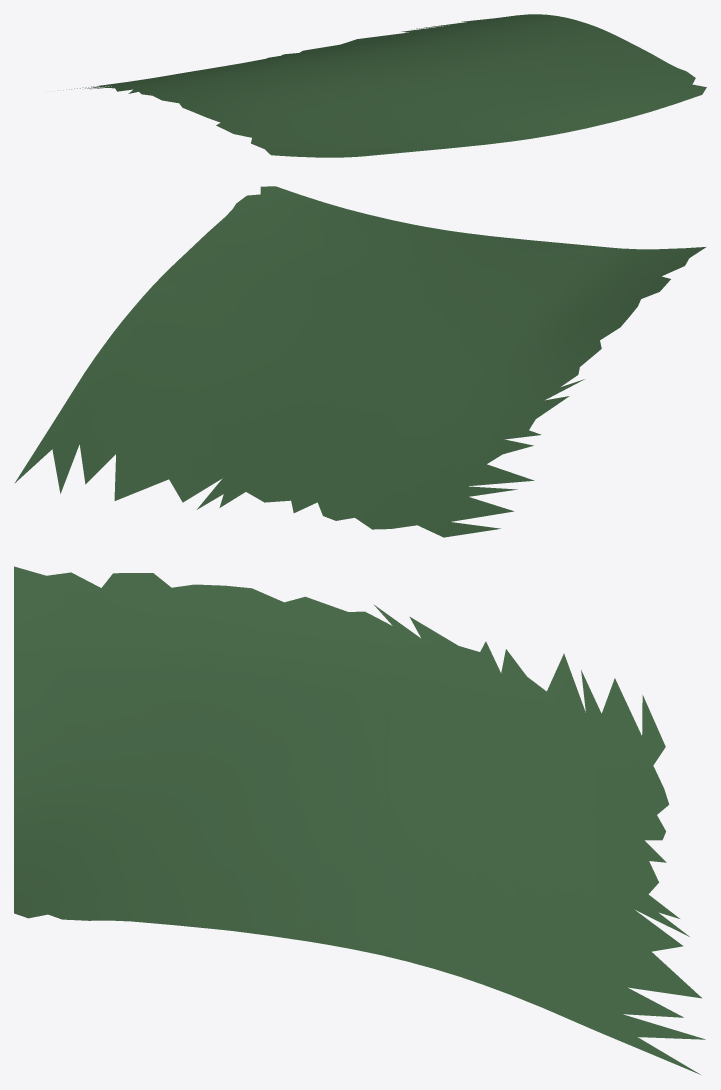
Rendered from payo_land_x0_y10.glb.
The picture shows the model from 3 angles, top to bottom: view 1: azimuth 30°, elevation 25°; view 2: azimuth 150°, elevation 25°; view 3: azimuth 270°, elevation 25°; orthographic projection. The views are drawn at different scales.
Parts seen in each view (by area): view 1: payo_land_x0_y10; view 2: payo_land_x0_y10; view 3: payo_land_x0_y10.
Boxes of the visible parts, x1,y1,x2,y2 form: payo_land_x0_y10: (60, 14, 706, 157); payo_land_x0_y10: (14, 186, 705, 537); payo_land_x0_y10: (14, 566, 705, 1074).
Size of the model in its own units: 277 by 89.21 by 258.
